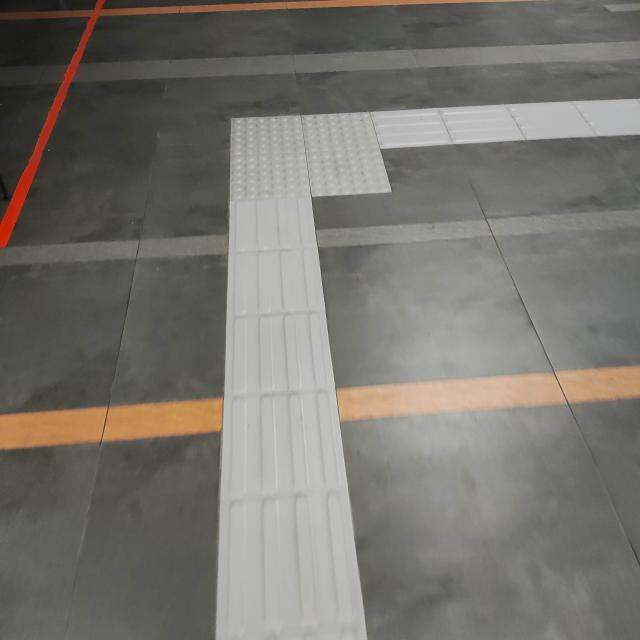kanan: (197, 74, 518, 242)
